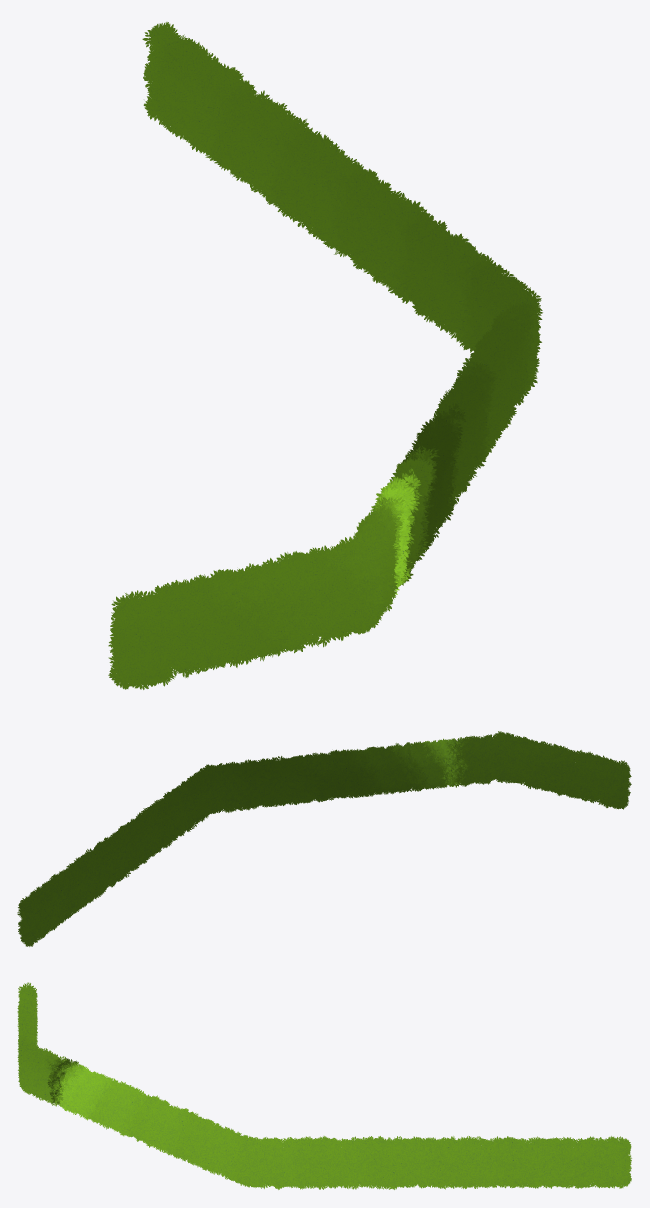
Rendered from Big Hedge TEST.fbx.
The picture shows the model from 3 angles, top to bottom: view 1: azimuth 30°, elevation 25°; view 2: azimuth 150°, elevation 25°; view 3: azimuth 270°, elevation 25°; orthographic projection. The views are drawn at different scales.
Parts seen in each view (by area): view 1: Plane.001; view 2: Plane.001; view 3: Plane.001.
Boxes of the visible parts, x1,y1,x2,y2 form: Plane.001: [108, 22, 542, 689]; Plane.001: [17, 731, 631, 946]; Plane.001: [17, 982, 631, 1189].
Size of the model in its own units: 2666 by 426 by 4234.
Materials: 1 (1 with a texture image).
